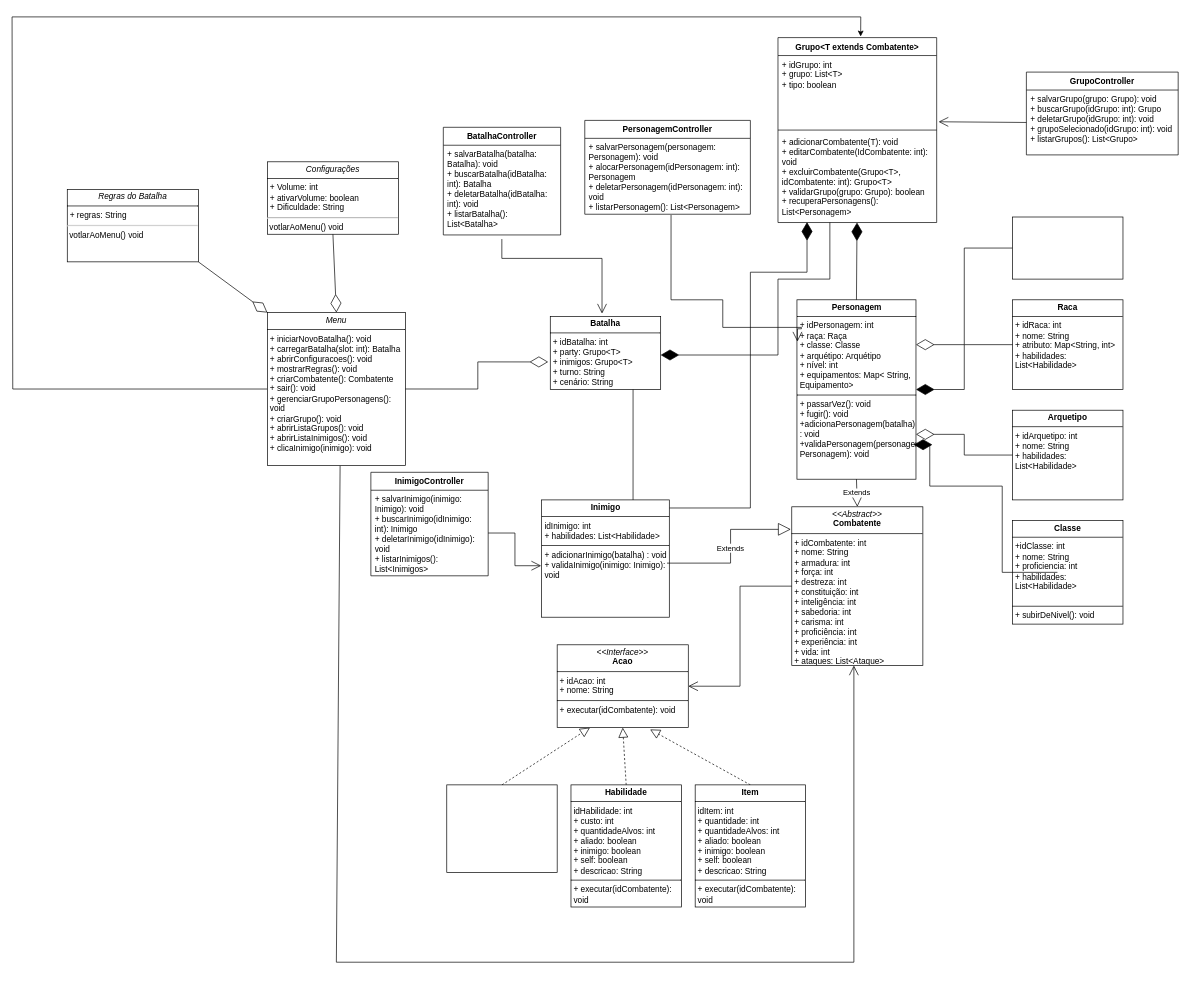
This 1190x984 diagram has some shape labels left out. Here are the shapes that lost their labels. From the top down, the centre of each, then its label:
the point at 1067,247: Equipamento + idEquipamento: int + nome: String + slot: String + valor: int
the point at 501,828: Arma idArma: int + tipo: String + dano: int + executar(idCombatente): void
